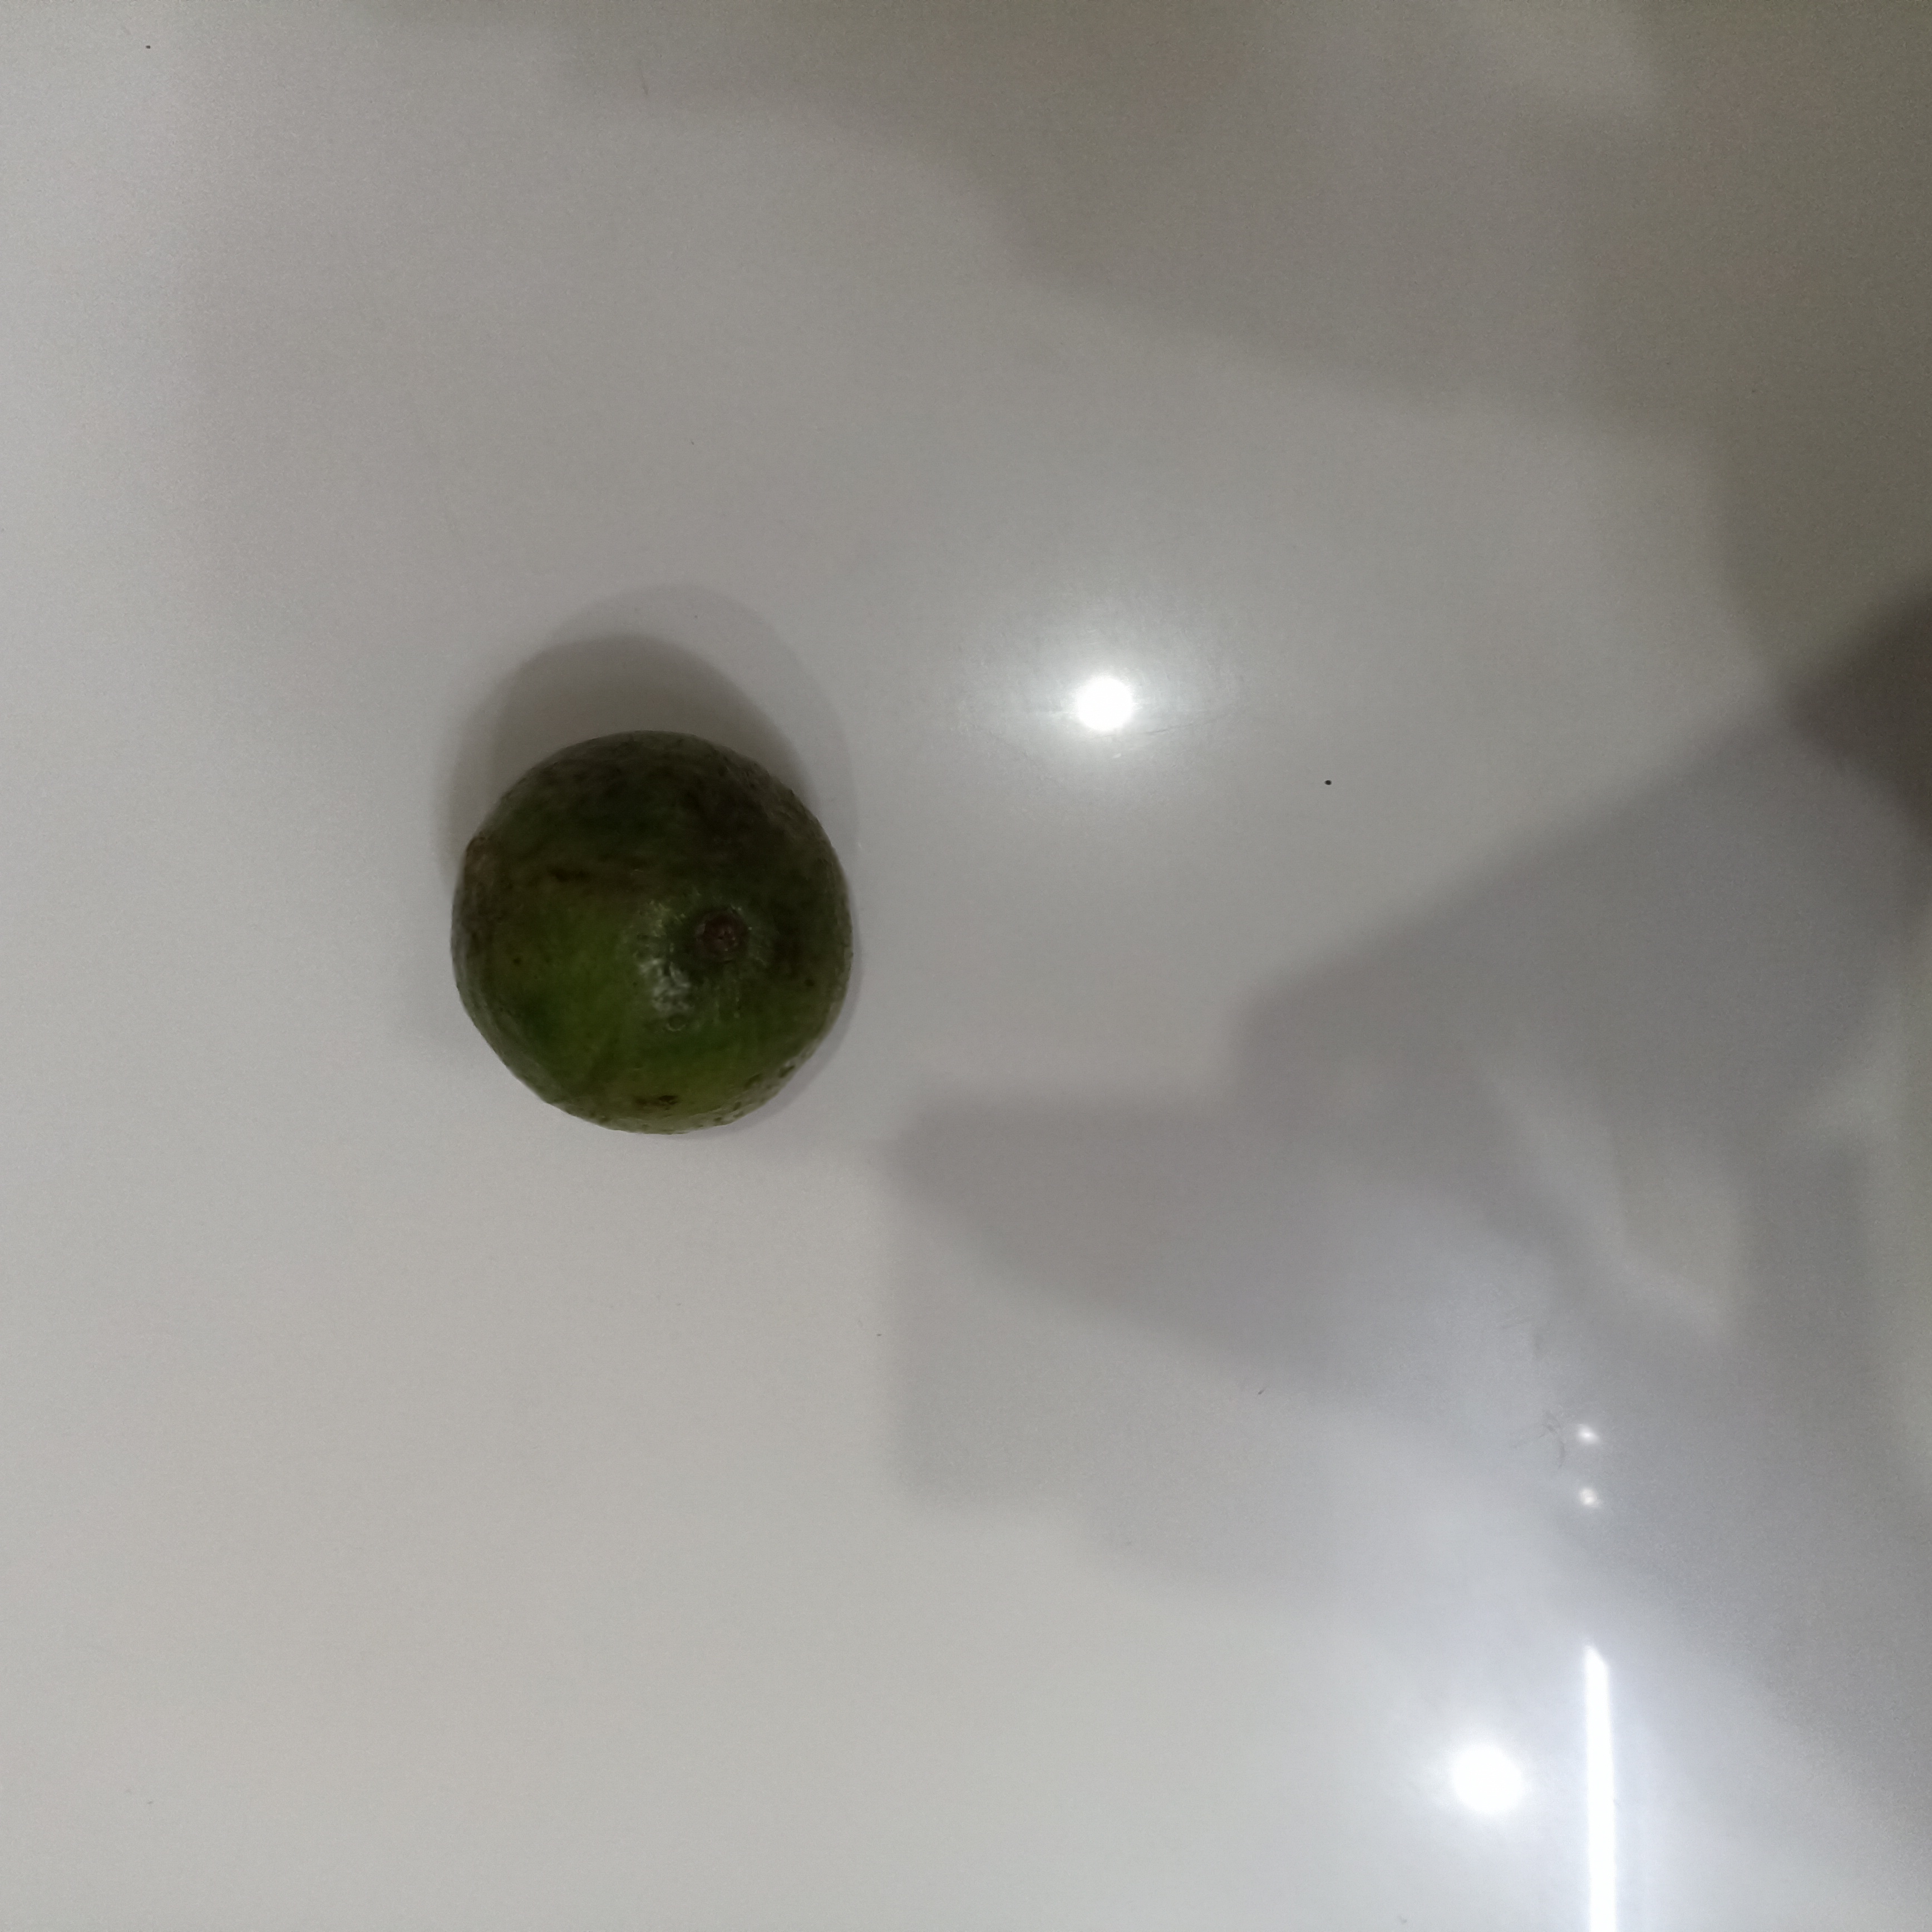Bo: (448, 732, 855, 1138)
